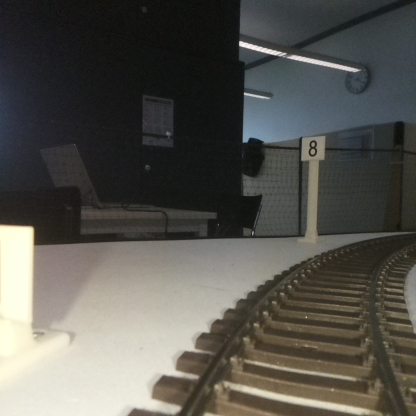white-info-8: (301, 135, 324, 241)
